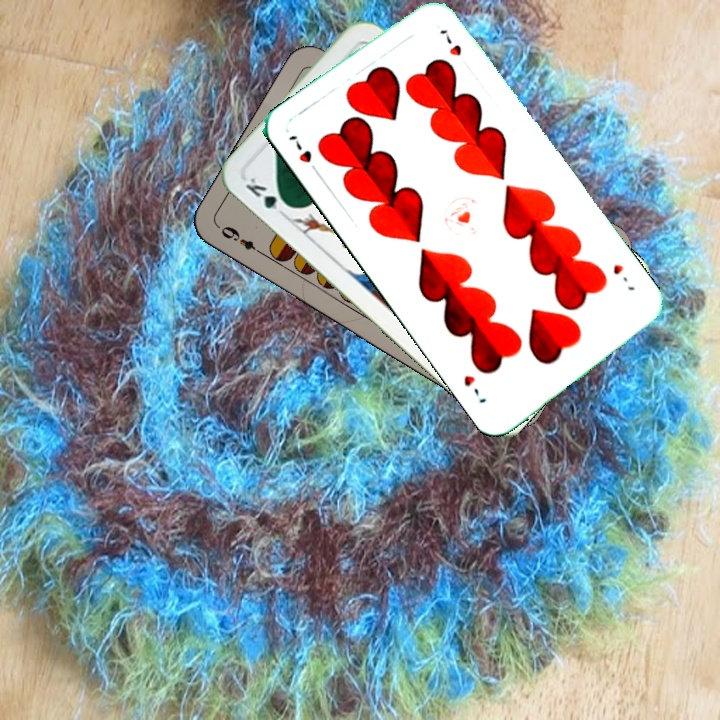E9: (217, 222, 268, 259)
GK: (241, 173, 294, 220)
H7: (284, 131, 324, 179), (609, 260, 638, 294)
